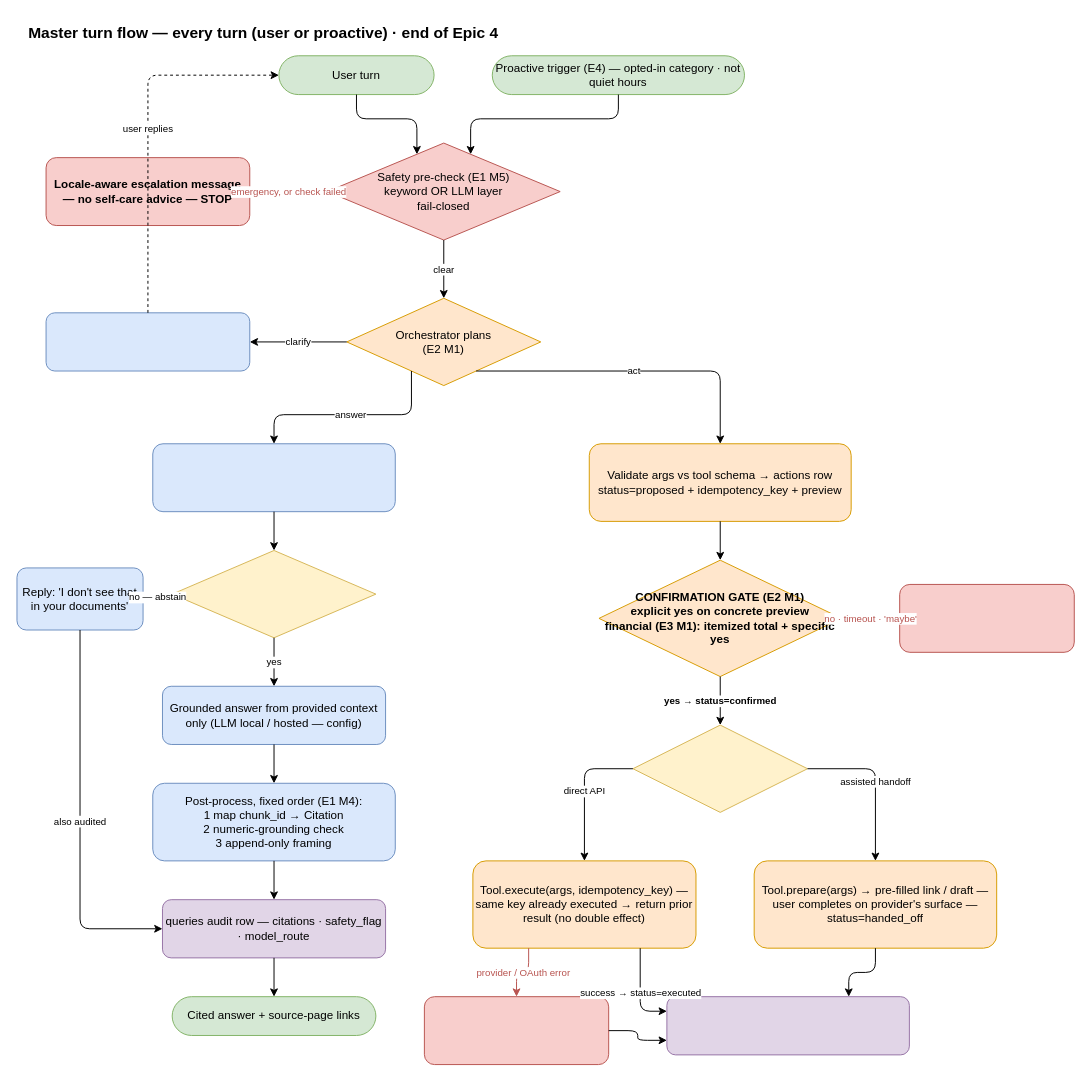
This 1091x1082 diagram has some shape labels left out. The shapes that lost their labels are listed below. From the top down, each one's centre as x and y in pixels, then its label:
At pixel 147 341: "Clarify — ask the user (missing date · which rx …)".
At pixel 273 477: "Retrieve (E1 M3) — embed query → infer doc type → KNN k×multiplier → post-filter".
At pixel 273 594: "best score ≥ threshold?".
At pixel 986 617: "status=cancelled — nothing runs".
At pixel 720 768: "execution kind (E3 M1)".
At pixel 516 1030: "status=failed — graceful report · no partial effect".
At pixel 787 1025: "observe → report to user → finalize actions audit row".
